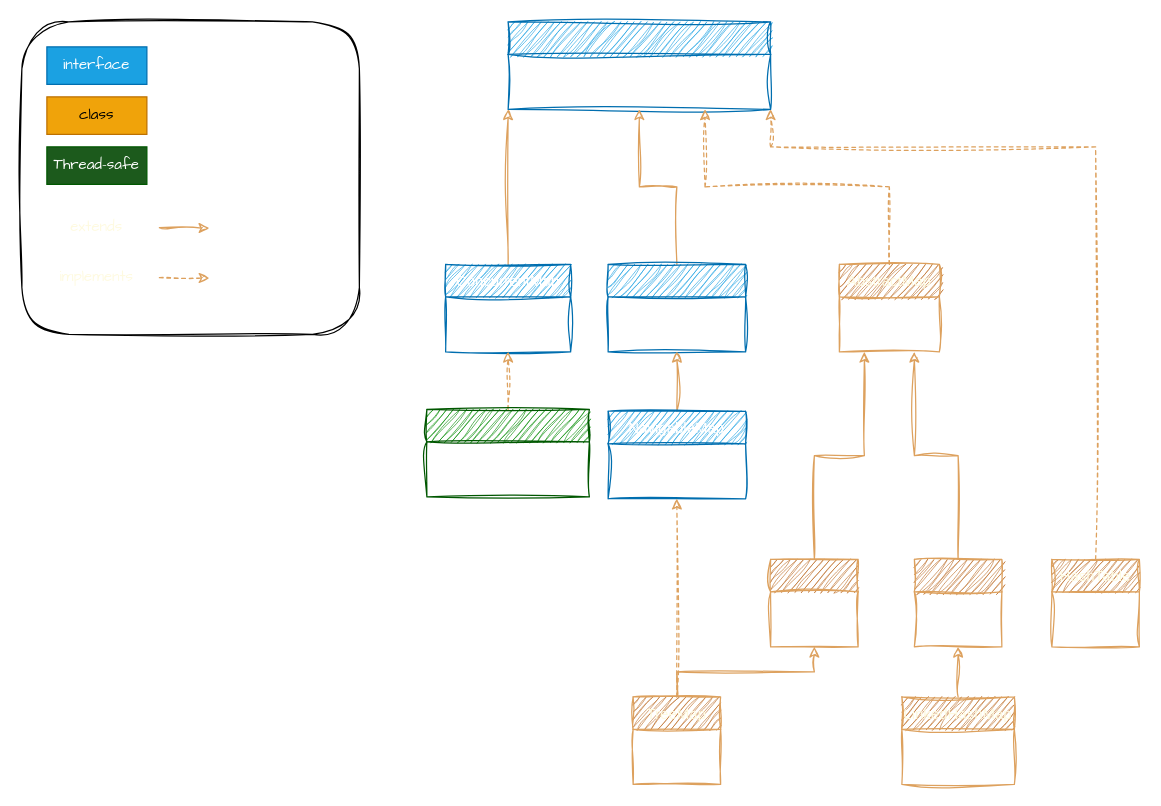
Image size: 1161x806. Some labels were removed from this diagram. The centre of each missing label's shape, as x and y in pixels:
ConcurrentHashMap: pixel 507 452
EnumMap: pixel 813 602
HashMap: pixel 957 602
Map: pixel 639 65
SortedMap: pixel 676 307
